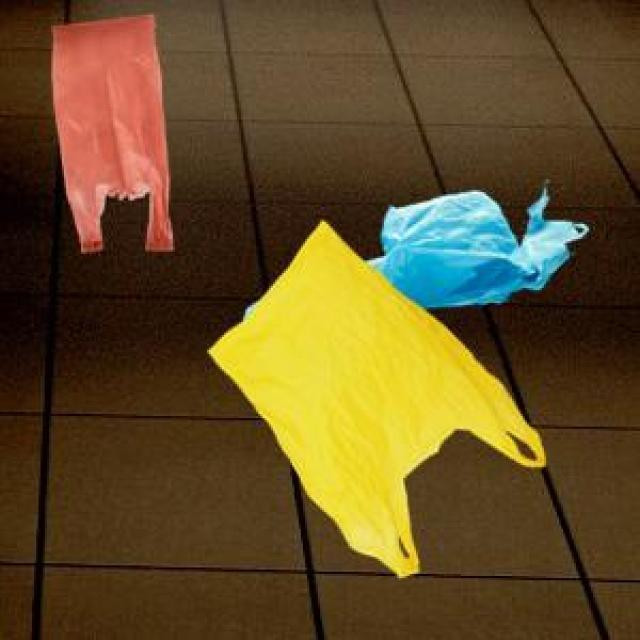waste: (209, 190, 589, 577), (52, 15, 172, 252)
